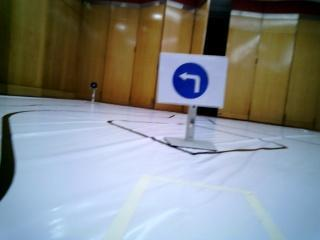left: (162, 54, 226, 108)
